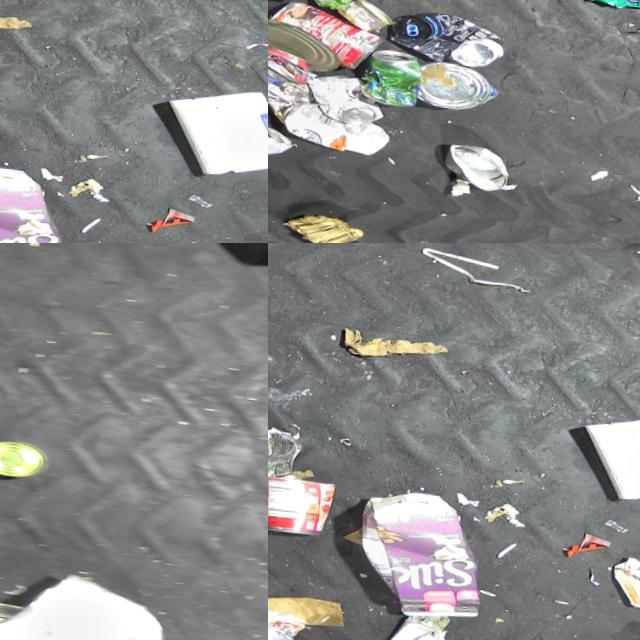can: (268, 0, 393, 70), (393, 2, 517, 67), (268, 468, 345, 537), (309, 66, 398, 124), (268, 11, 351, 71), (423, 54, 510, 110), (365, 42, 434, 103), (452, 136, 528, 189), (268, 418, 312, 479), (268, 34, 300, 117), (0, 433, 57, 479), (268, 593, 320, 640), (0, 595, 49, 640), (340, 0, 401, 31), (268, 112, 306, 155)
non_white_jug: (351, 481, 506, 621), (0, 156, 89, 243)
